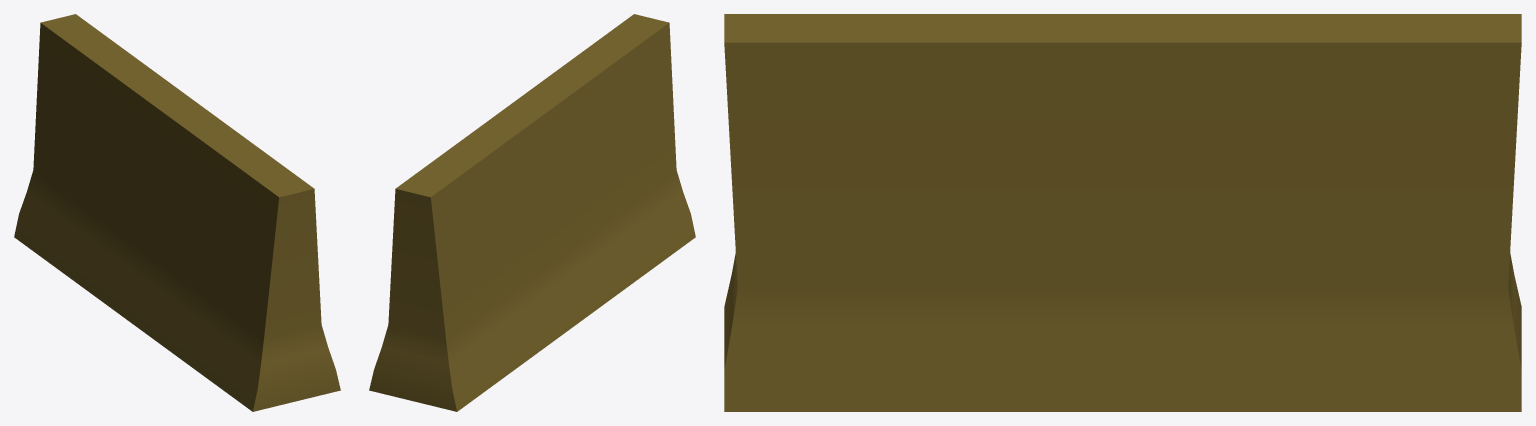
File: Concreatcone.fbx
3 views of the same model, side by side, from view 1: azimuth 30°, elevation 25°; view 2: azimuth 150°, elevation 25°; view 3: azimuth 270°, elevation 25° (orthographic). The views are drawn at different scales.
Visible parts, largest first — view 1: pCube5; view 2: pCube5; view 3: pCube5.
Part boxes in pixels (x1=…): pCube5: x1=14, y1=14, x2=340, y2=411; pCube5: x1=369, y1=14, x2=695, y2=411; pCube5: x1=724, y1=14, x2=1521, y2=411.
Bounding box in the file's own units: 1.38 × 3.12 × 6.49.
